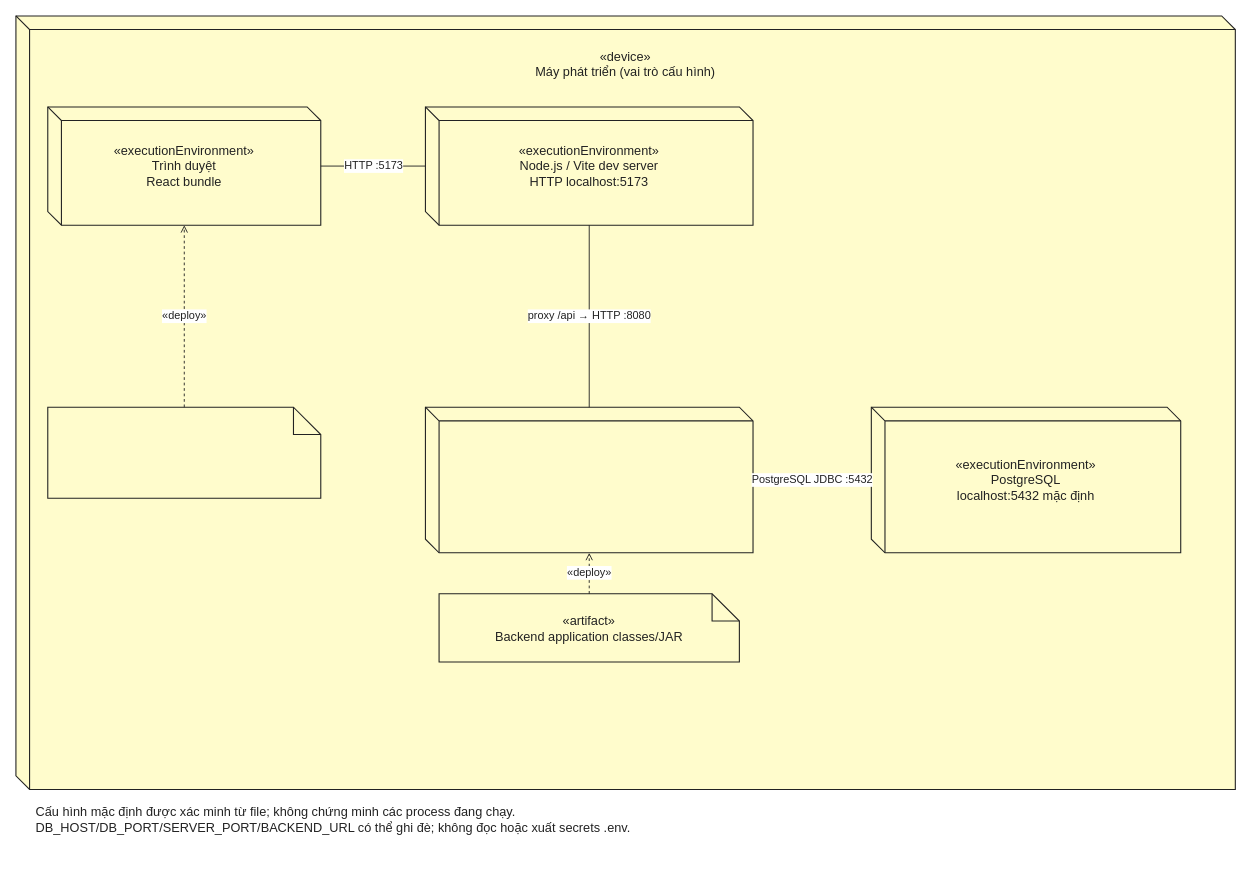
Image size: 1252x869. Some labels were removed from this diagram. Here are the shapes that lost their labels. From the top down, the centre of each, then its label:
At (x=184, y=452): "«artifact» React HTML / JS / CSS bundle".
At (x=588, y=479): "«executionEnvironment» JVM Java 21 / Spring Boot HTTP :8080 mặc định".
